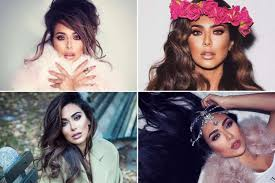middle_eastern_Female: (177, 9, 231, 68), (200, 111, 246, 161), (54, 16, 90, 63), (59, 102, 94, 147)
